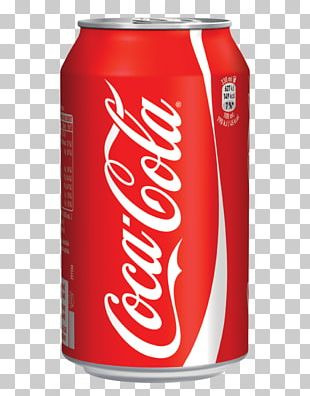coke: (61, 16, 249, 370)
